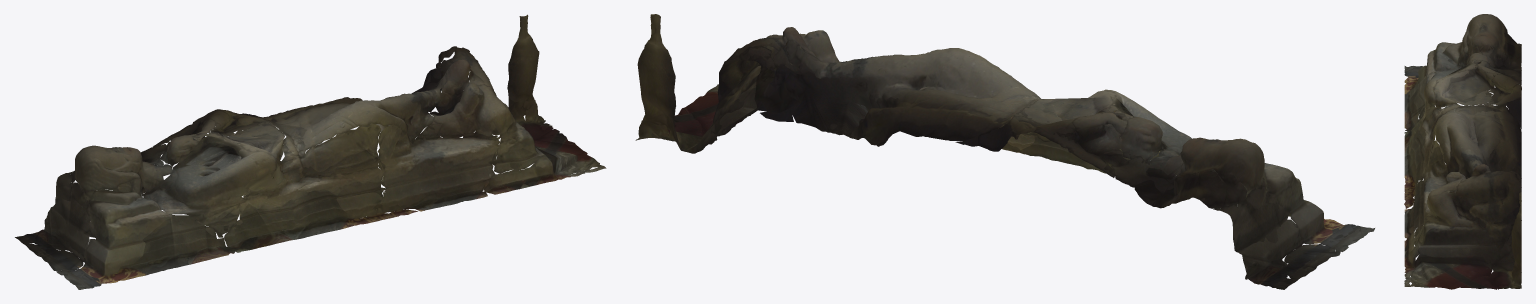
The model's file is effigy-knight-scan.glb.
3 renders of one model, left to right at view 1: azimuth 30°, elevation 25°; view 2: azimuth 150°, elevation 25°; view 3: azimuth 270°, elevation 25°, orthographic. The views are drawn at different scales.
Visible parts, largest first — view 1: effigy; view 2: effigy; view 3: effigy.
Part boxes in pixels (x1,y1,x2,y2): effigy: (15, 14, 606, 289); effigy: (635, 14, 1374, 289); effigy: (1404, 14, 1521, 289).
Size of the model in its own units: 1.7 by 0.3313 by 0.3906.
Materials: 1 (1 with a texture image).
